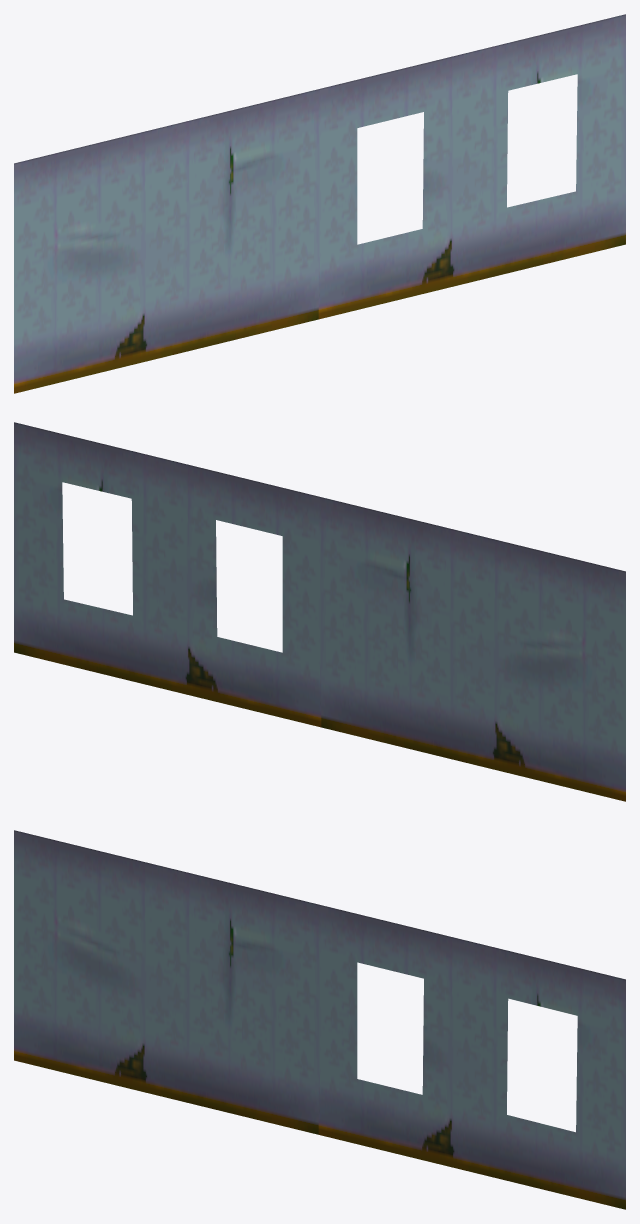
File: W_AI2l_xxff_1907.glb
3 renders of one model, top to bottom at view 1: azimuth 30°, elevation 25°; view 2: azimuth 150°, elevation 25°; view 3: azimuth 330°, elevation 25°, orthographic.
Visible parts, largest first — view 1: polySurfaceShape854; view 2: polySurfaceShape854; view 3: polySurfaceShape854.
Part boxes in pixels (x1,y1,x2,y2): polySurfaceShape854: (14,14,625,393); polySurfaceShape854: (14,422,625,801); polySurfaceShape854: (14,830,625,1209).
Size of the model in its own units: 0.9692 by 0.3486 by 1.52e-08.
Materials: 1 (1 with a texture image).
